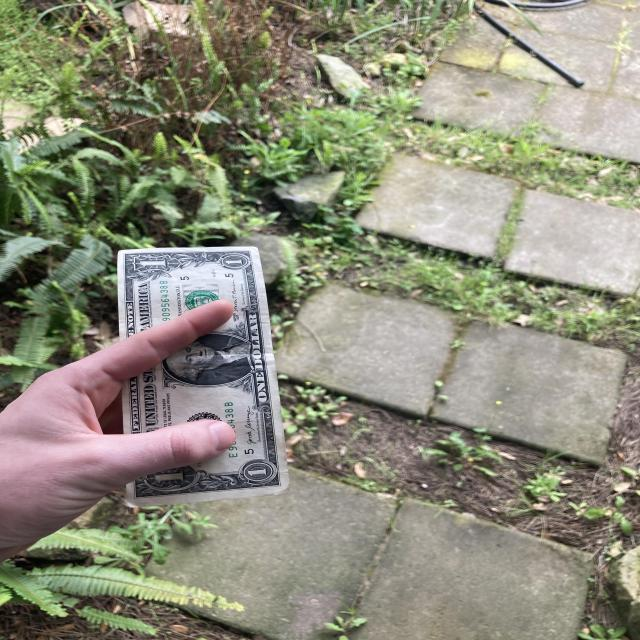one: (107, 236, 291, 507)
